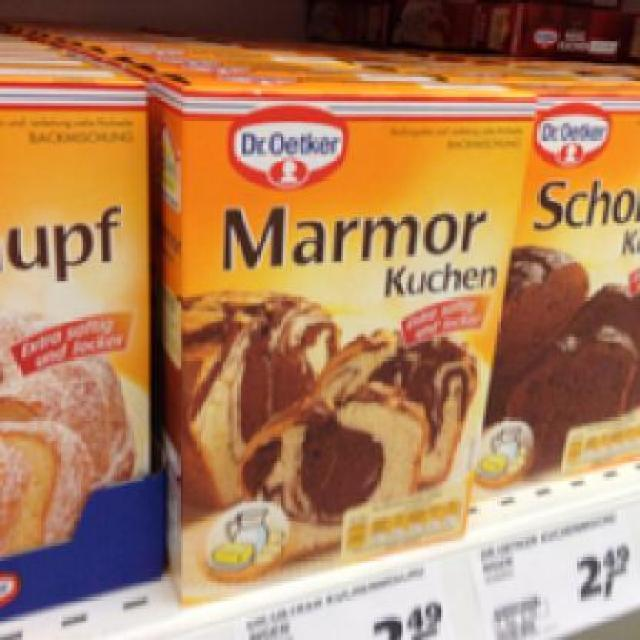Cake: (157, 66, 534, 612), (0, 70, 146, 546)
